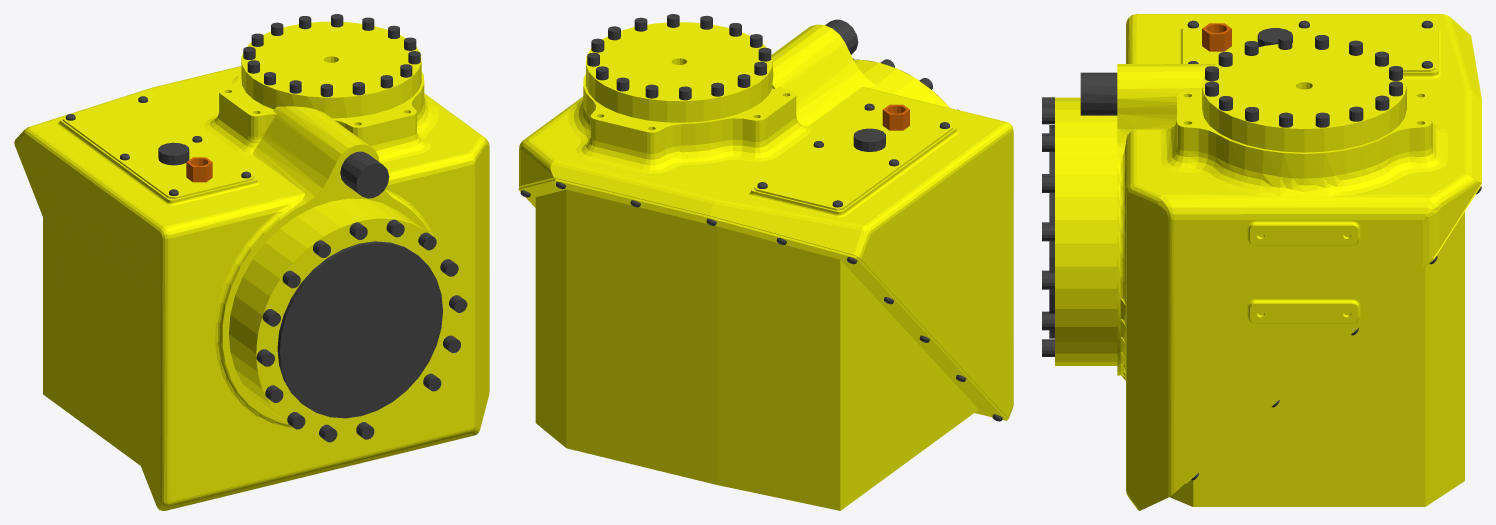
3 renders of one model, left to right at view 1: azimuth 30°, elevation 25°; view 2: azimuth 150°, elevation 25°; view 3: azimuth 270°, elevation 25°, orthographic. The views are drawn at different scales.
Visible parts, largest first — view 1: node; view 2: node; view 3: node.
Boxes of the visible parts, box(x1,y1,x2,y2) form: node: box(14, 14, 489, 510); node: box(518, 14, 1013, 510); node: box(1042, 14, 1481, 510).
Size of the model in its own units: 425 by 403 by 408.
